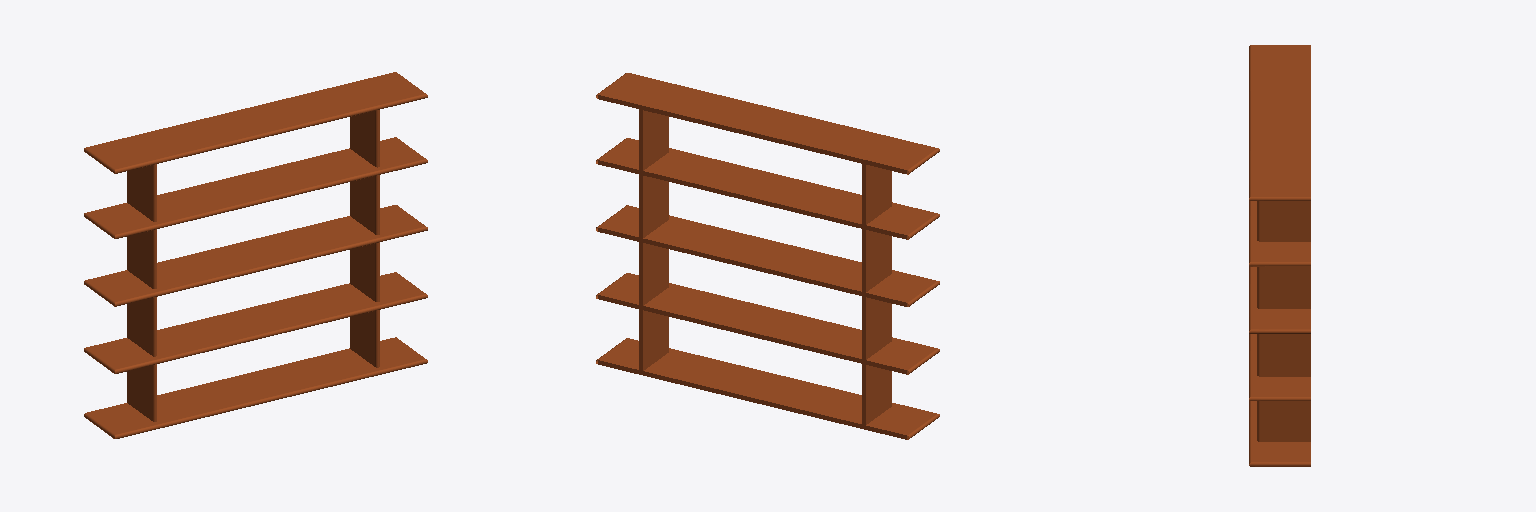
The model's file is libreria.obj.
The picture shows the model from 3 angles: view 1: azimuth 30°, elevation 25°; view 2: azimuth 150°, elevation 25°; view 3: azimuth 270°, elevation 25°; orthographic projection.
Visible parts, largest first — view 1: BookCase_18, BookCase_21, BookCase_20, BookCase_22, BookCase_19, BookCase_23, BookCase_24, BookCase_12, BookCase_15, BookCase_9, BookCase_3, BookCase_6 (+2 smaller); view 2: BookCase_18, BookCase_19, BookCase_22, BookCase_21, BookCase_20, BookCase_24, BookCase_23; view 3: BookCase_18, BookCase_24, BookCase_21, BookCase_20, BookCase_22, BookCase_19.
Part boxes in pixels (x1,y1,x2,y2): BookCase_18: (86,72,424,168); BookCase_21: (86,272,423,368); BookCase_20: (86,205,424,301); BookCase_22: (87,137,423,233); BookCase_19: (87,338,423,434); BookCase_23: (127,165,152,420); BookCase_24: (350,111,374,366); BookCase_12: (115,294,427,373); BookCase_15: (115,359,427,438); BookCase_9: (115,227,427,306); BookCase_3: (115,94,427,173); BookCase_6: (115,159,427,238); BookCase_18: (598,73,936,173); BookCase_19: (598,338,935,439); BookCase_22: (598,138,936,239); BookCase_21: (598,273,936,374); BookCase_20: (598,206,935,306); BookCase_24: (639,109,668,370); BookCase_23: (862,164,891,424); BookCase_18: (1251,46,1310,196); BookCase_24: (1260,201,1310,441); BookCase_21: (1251,334,1310,396); BookCase_20: (1251,267,1310,328); BookCase_22: (1251,201,1310,261); BookCase_19: (1251,401,1310,461).
Bounding box in the file's own units: 182 × 150 × 31.25.